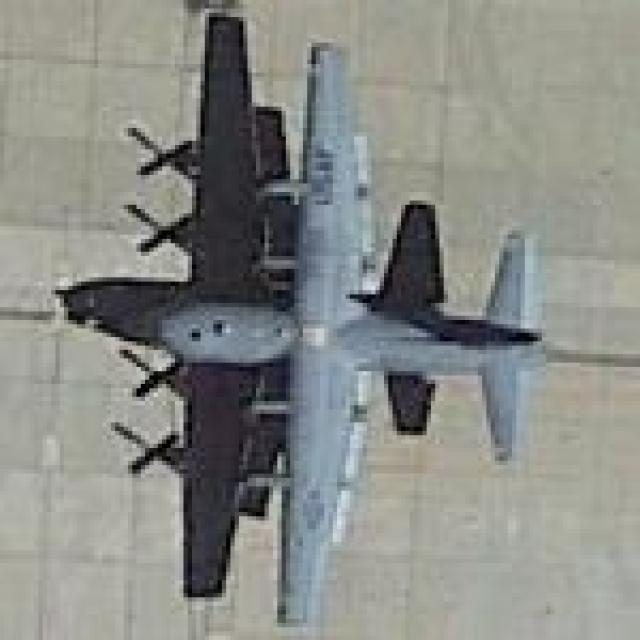C-130_TopDown: (49, 9, 550, 635)
